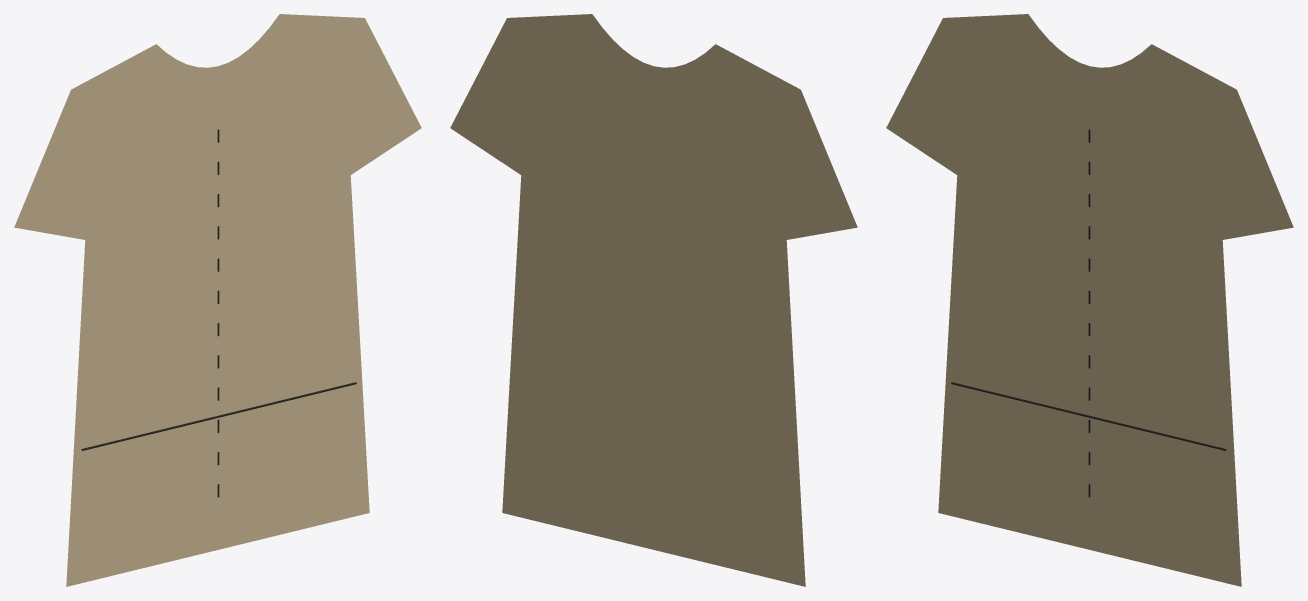
File: garment-pattern.glb
3 views of the same model, side by side, from view 1: azimuth 30°, elevation 25°; view 2: azimuth 150°, elevation 25°; view 3: azimuth 330°, elevation 25° (orthographic).
Parts seen in each view (by area): view 1: bodice-pattern-paper, waist-mark; view 2: bodice-pattern-paper; view 3: bodice-pattern-paper, waist-mark.
Boxes of the visible parts, x1,y1,x2,y2 form: bodice-pattern-paper: (14, 14, 421, 586); waist-mark: (81, 382, 356, 450); bodice-pattern-paper: (450, 14, 857, 586); bodice-pattern-paper: (886, 14, 1293, 586); waist-mark: (951, 382, 1226, 450).
Size of the model in its own units: 0.86 by 1.05 by 0.005.
